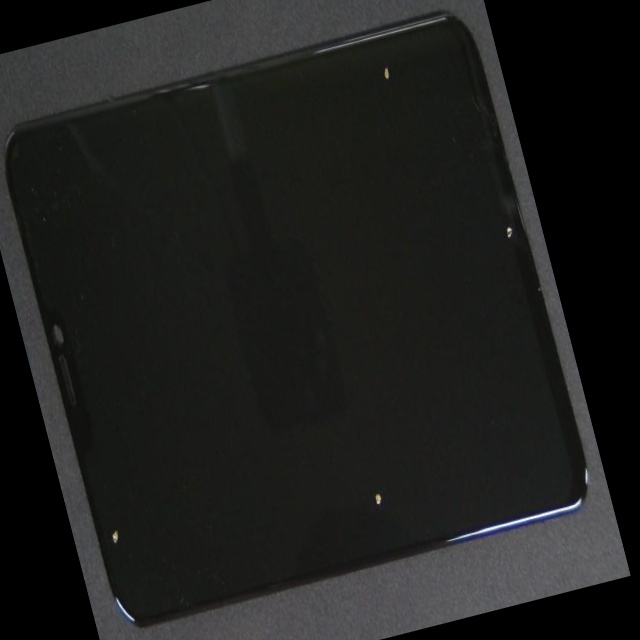stain: (143, 219, 557, 640), (203, 78, 587, 481), (148, 0, 513, 202), (37, 249, 175, 640)
